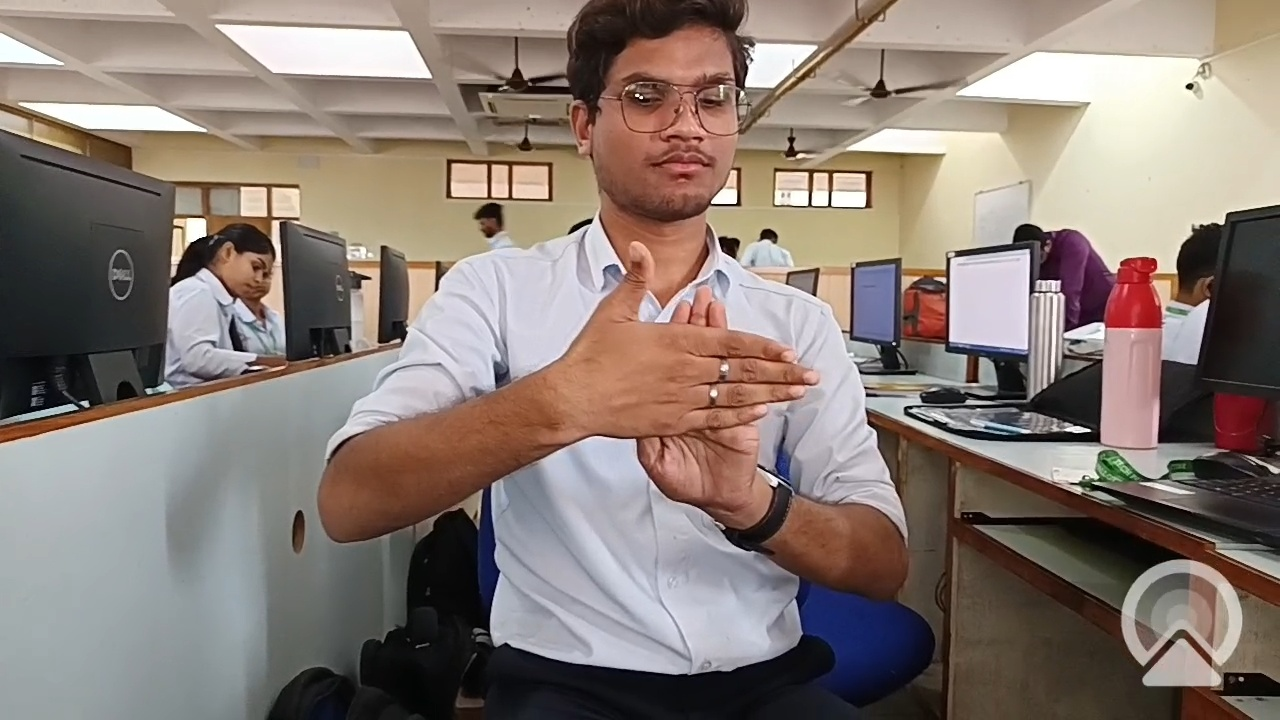W: (441, 218, 836, 533)
